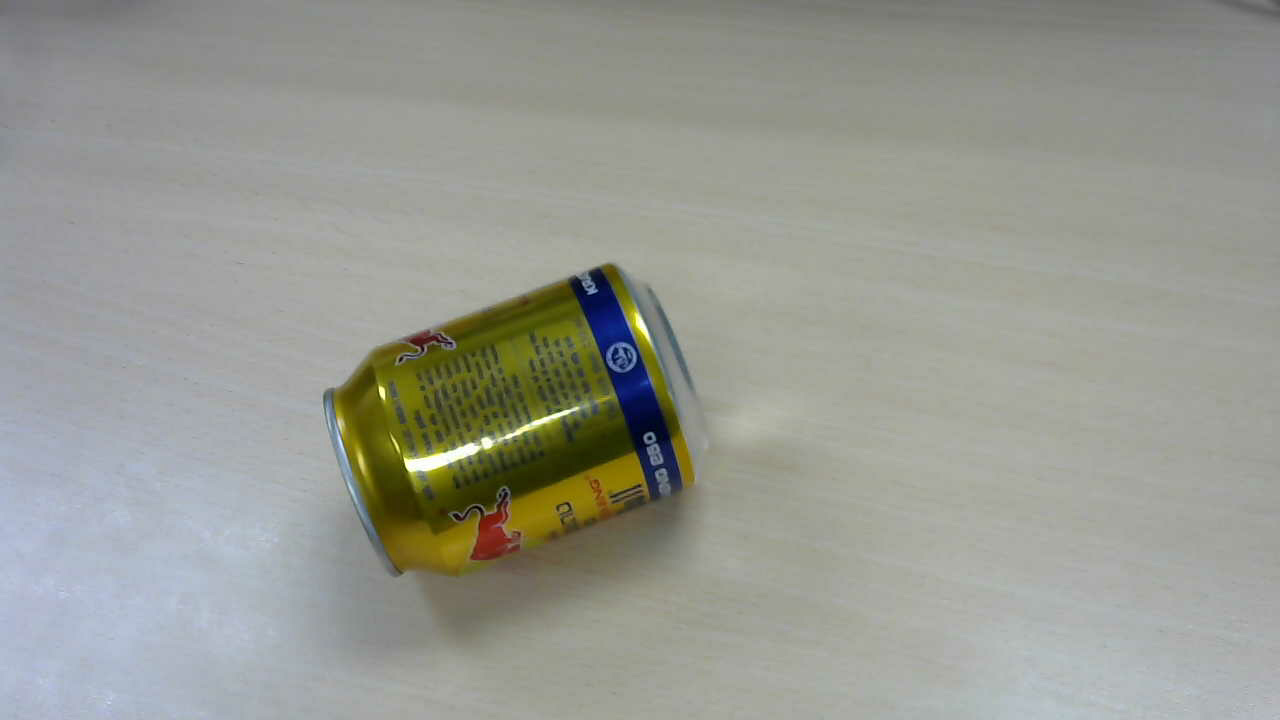Red_Bull: (331, 270, 710, 589)
